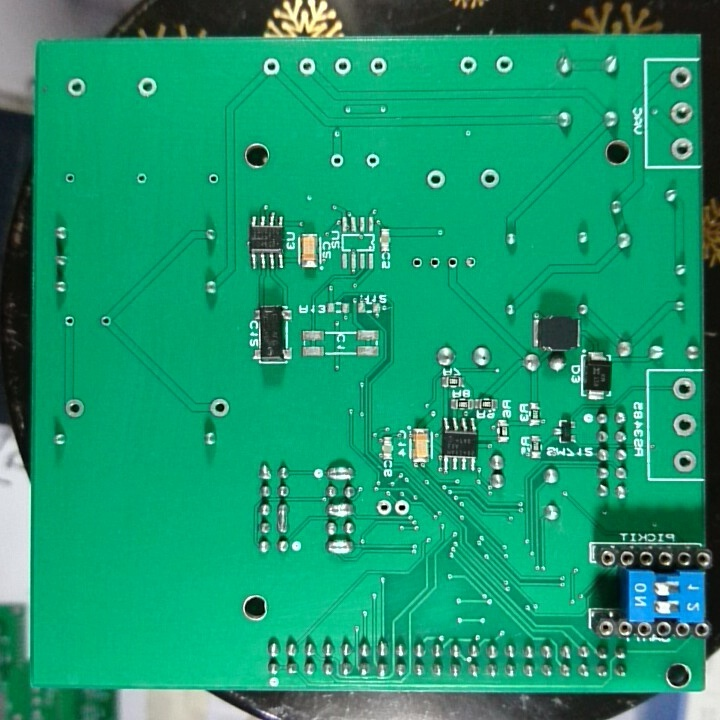F: (666, 98, 694, 128), (671, 412, 699, 440), (671, 447, 698, 475), (667, 64, 694, 92), (668, 135, 695, 162), (671, 375, 697, 403), (206, 394, 234, 420), (477, 166, 502, 192), (61, 395, 86, 420), (65, 75, 90, 100), (135, 75, 159, 100), (422, 168, 447, 191), (494, 54, 517, 78), (331, 55, 354, 78), (366, 55, 389, 78), (297, 55, 319, 78), (392, 497, 413, 521), (260, 56, 282, 78), (457, 55, 479, 77), (374, 496, 393, 519), (364, 150, 382, 171), (461, 253, 479, 273), (408, 253, 426, 273), (328, 152, 346, 171), (97, 312, 115, 330), (133, 170, 150, 188), (205, 171, 222, 189), (443, 254, 459, 272), (426, 254, 442, 272), (62, 314, 77, 330), (62, 171, 77, 186)
P: (324, 461, 356, 483), (324, 536, 356, 557), (273, 498, 291, 534), (325, 501, 356, 520)
